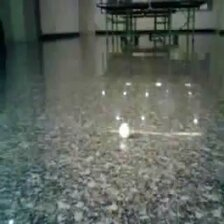w: (117, 121, 131, 140)
